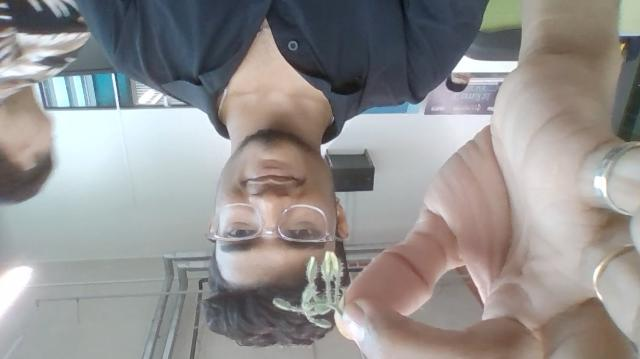Flower Bud: (301, 252, 319, 308), (300, 302, 334, 328), (272, 297, 318, 315), (323, 250, 339, 279), (307, 255, 316, 280)
